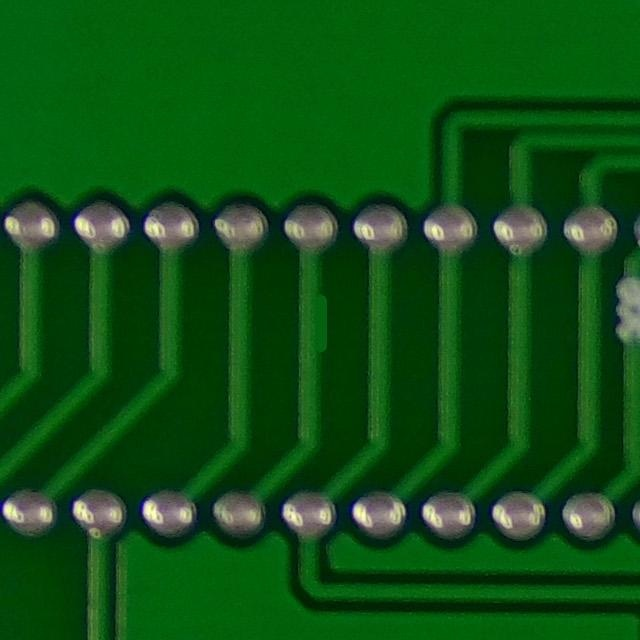spur: (295, 283, 346, 357)
